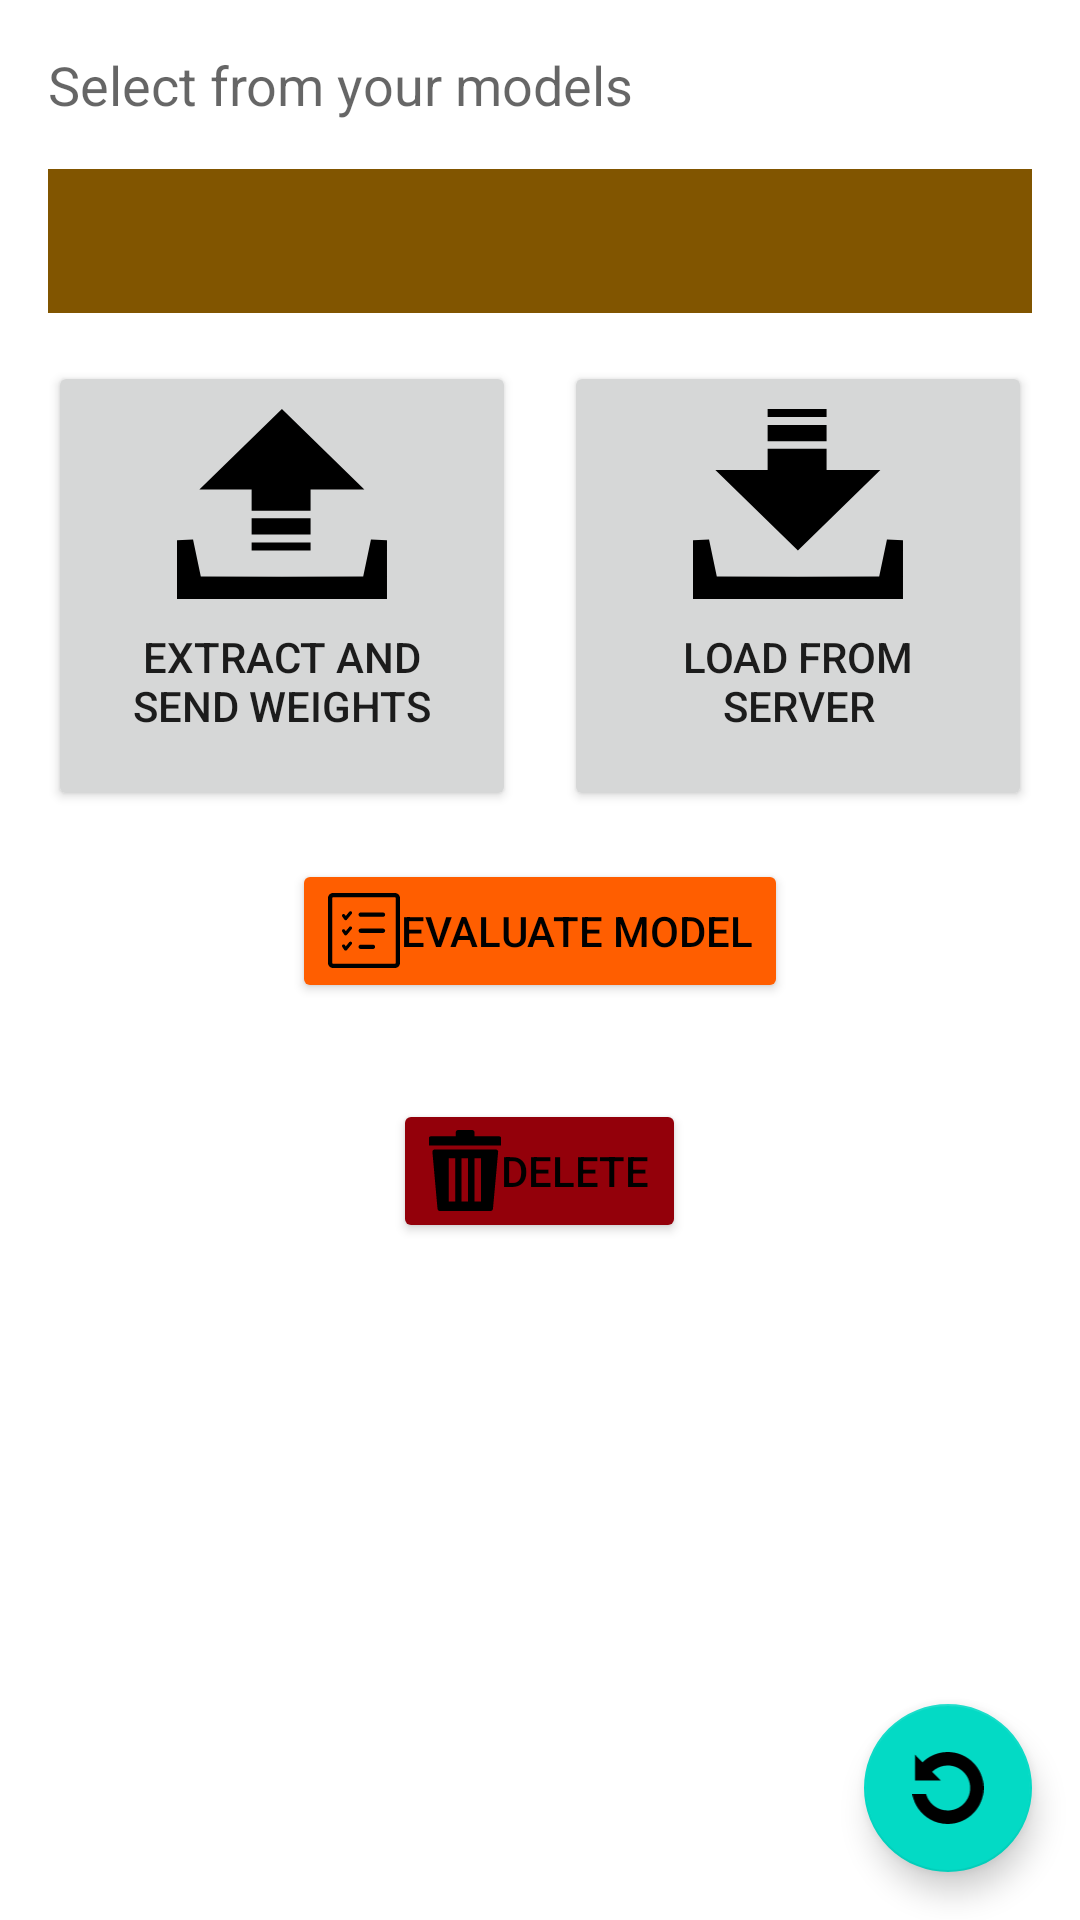

Icon bounding boxes for this 1080 × 1920 phone screenshot, format (x1, y1, x2, y2):
Refresh: (864, 1704, 1032, 1872)
